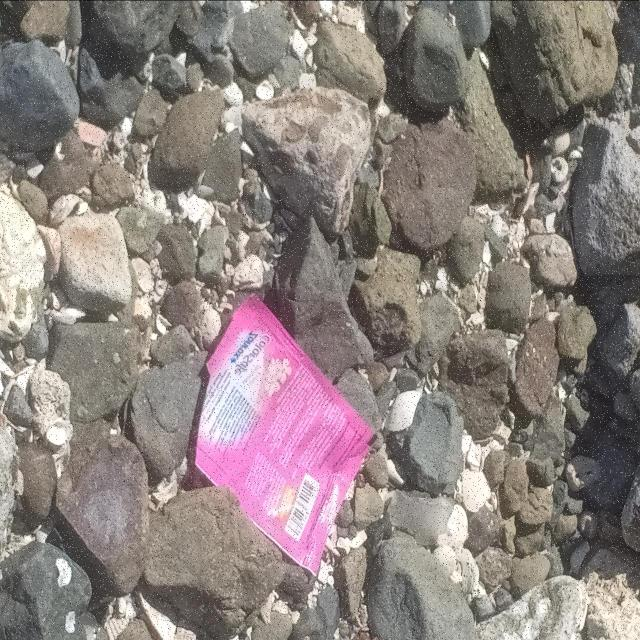plastic_waste: (196, 294, 378, 579)
